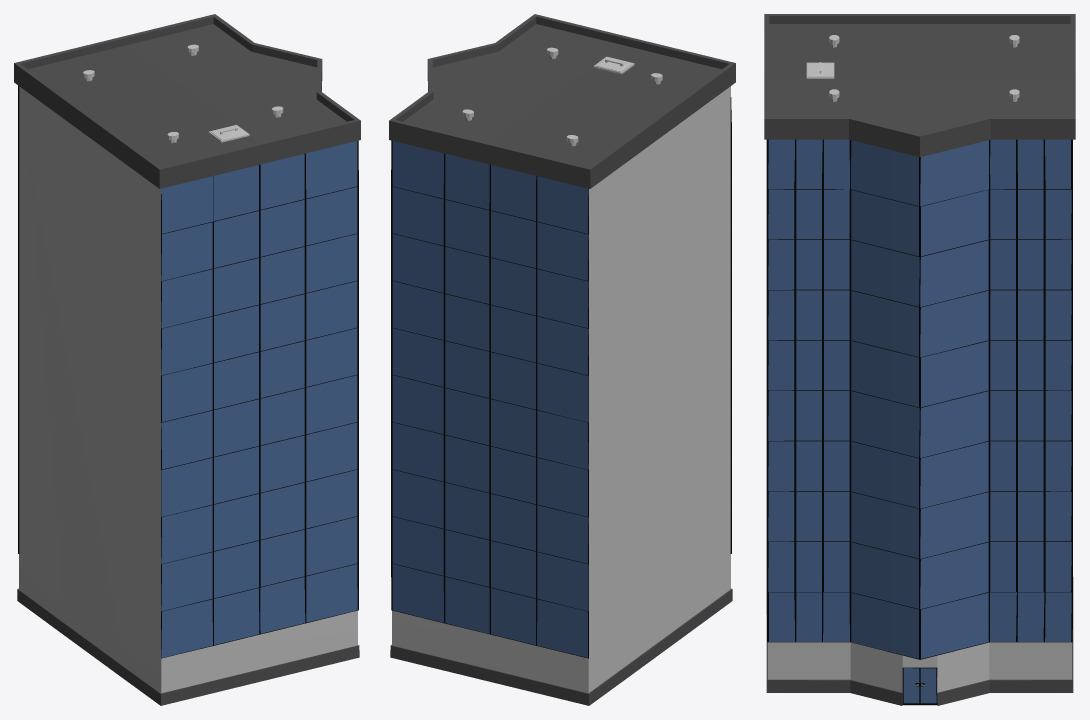
The model's file is Skycraper.fbx.
The picture shows the model from 3 angles, left to right: view 1: azimuth 30°, elevation 25°; view 2: azimuth 150°, elevation 25°; view 3: azimuth 270°, elevation 25°; orthographic projection. The views are drawn at different scales.
Parts seen in each view (by area): view 1: Building_Skyscraper; view 2: Building_Skyscraper; view 3: Building_Skyscraper.
Part boxes in pixels (x1,y1,x2,y2): Building_Skyscraper: (14,14,360,705); Building_Skyscraper: (389,14,735,705); Building_Skyscraper: (764,14,1075,705).
Bounding box in the file's own units: 20.9 × 45.66 × 22.41.
Materials: 1 (1 with a texture image).
